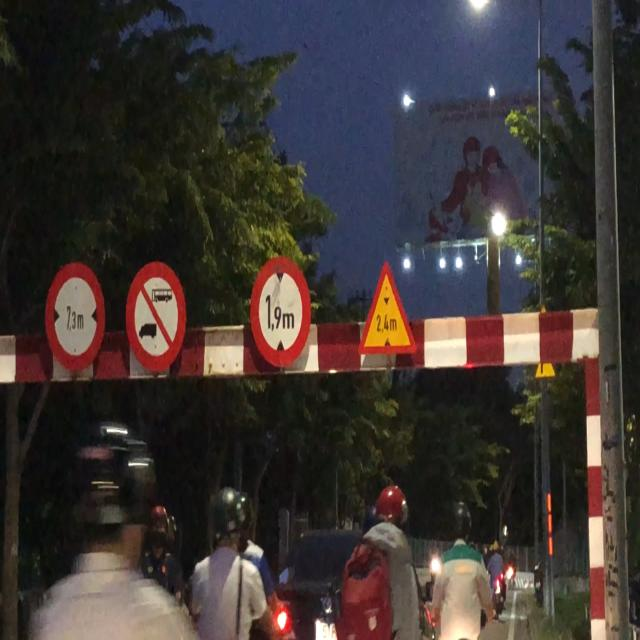Bien bao cam xe oto khach va xe oto tai: (124, 257, 190, 379)
Bien bao chieu cao tinh khong thuc te: (358, 259, 429, 360)
Bien bao han che chieu cao: (248, 250, 328, 392)
